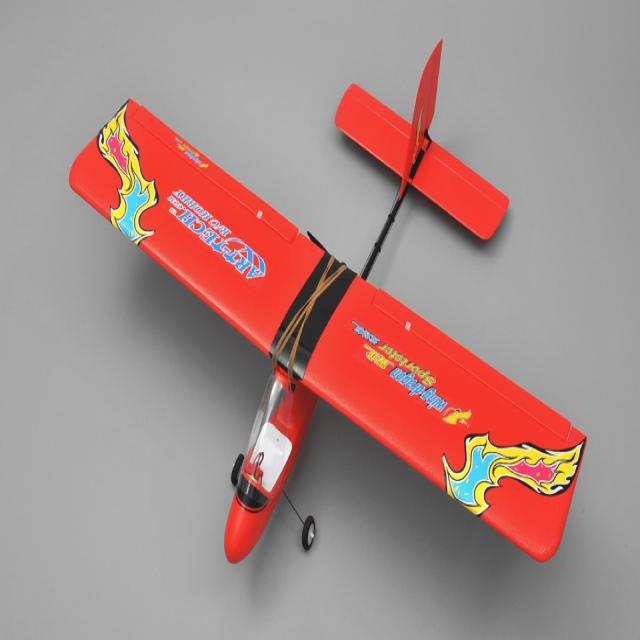iha: (66, 44, 578, 582)
